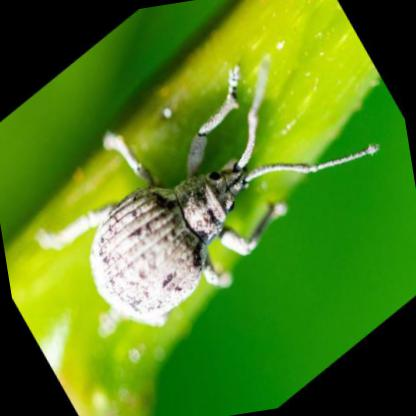ash weevil: (38, 68, 380, 324)
